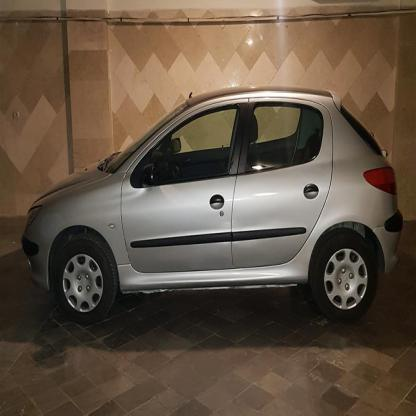Car: (26, 89, 410, 345)
